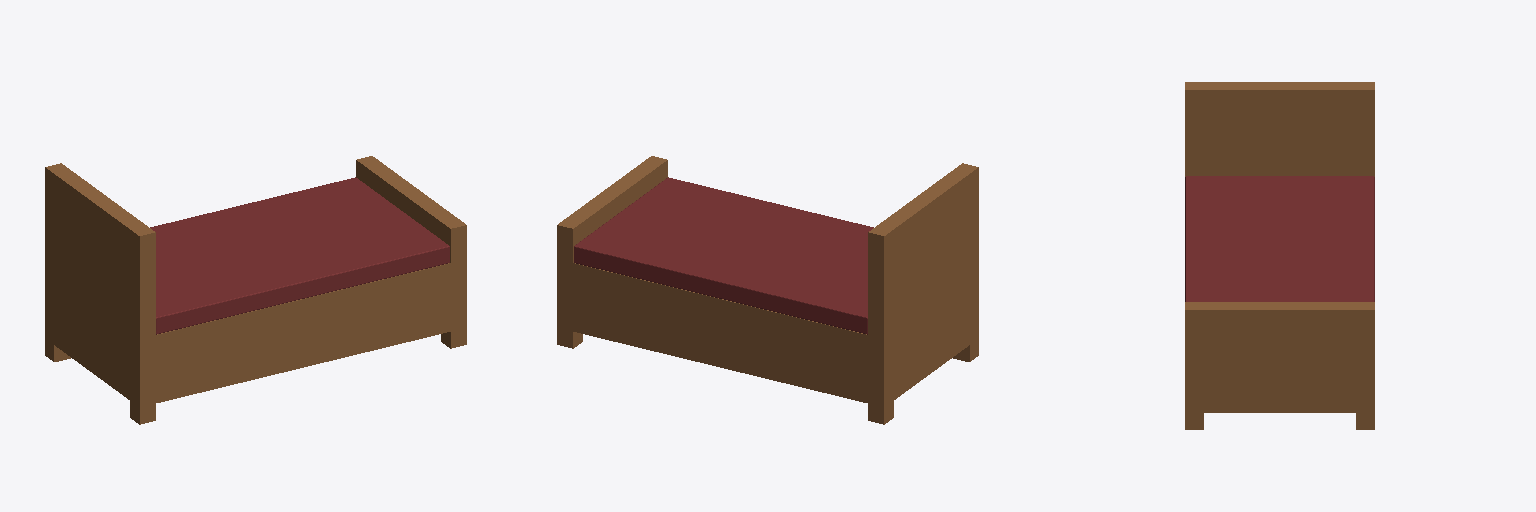
The model's file is bed.obj.
3 renders of one model, left to right at view 1: azimuth 30°, elevation 25°; view 2: azimuth 150°, elevation 25°; view 3: azimuth 270°, elevation 25°, orthographic.
Visible parts, largest first — view 1: bed_mesh_Cube.001, matterss_mesh_Cube; view 2: bed_mesh_Cube.001, matterss_mesh_Cube; view 3: bed_mesh_Cube.001, matterss_mesh_Cube.
Boxes of the visible parts, box(x1,y1,x2,y2) form: bed_mesh_Cube.001: box(45, 156, 466, 424); matterss_mesh_Cube: box(150, 177, 449, 334); bed_mesh_Cube.001: box(557, 156, 978, 424); matterss_mesh_Cube: box(574, 177, 873, 334); bed_mesh_Cube.001: box(1185, 82, 1374, 429); matterss_mesh_Cube: box(1185, 176, 1374, 301).
Size of the model in its own units: 2 by 1.1 by 1.